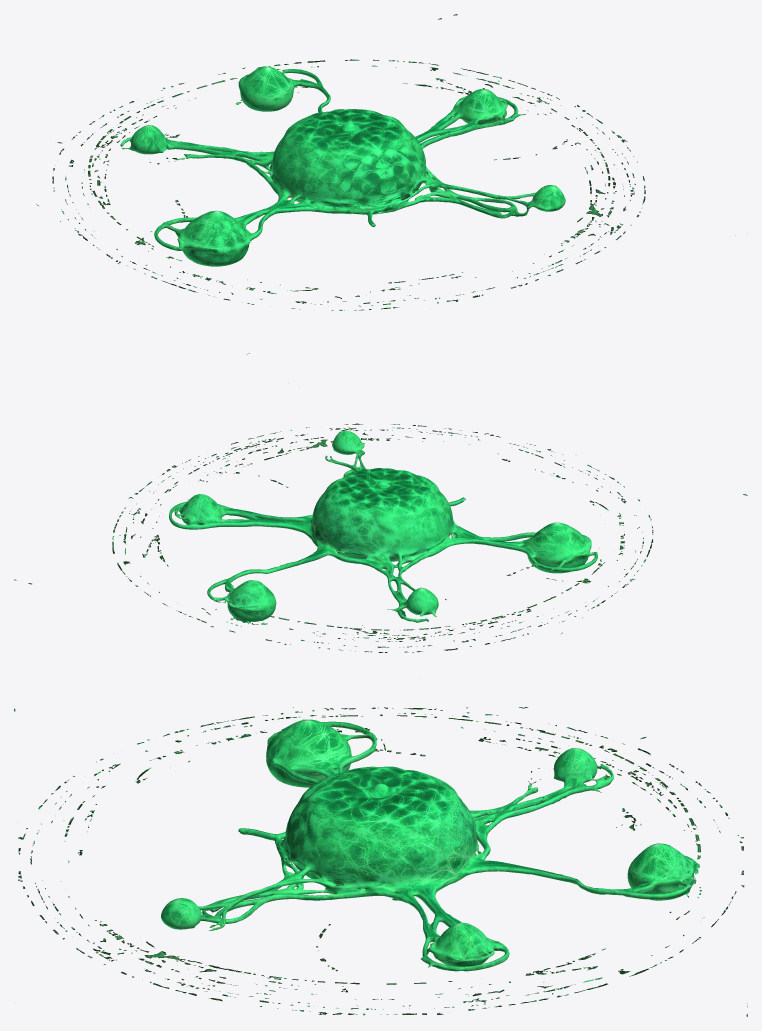
Rendered from node-client.glb.
The picture shows the model from 3 angles, top to bottom: view 1: azimuth 30°, elevation 25°; view 2: azimuth 150°, elevation 25°; view 3: azimuth 270°, elevation 25°; orthographic projection. The views are drawn at different scales.
Parts seen in each view (by area): view 1: Mesh_0; view 2: Mesh_0; view 3: Mesh_0.
Boxes of the visible parts, bbox=[...] form: Mesh_0: bbox=[36, 14, 735, 354]; Mesh_0: bbox=[14, 423, 747, 652]; Mesh_0: bbox=[14, 707, 747, 1016].
Bounding box in the file's own units: 1.9 × 0.2578 × 1.91.
Materials: 1 (1 with a texture image).
